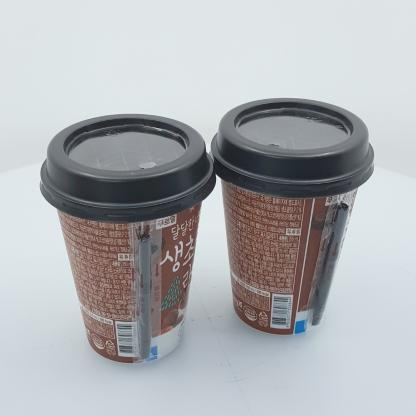----------250ML: (40, 114, 216, 366), (209, 98, 374, 337)
